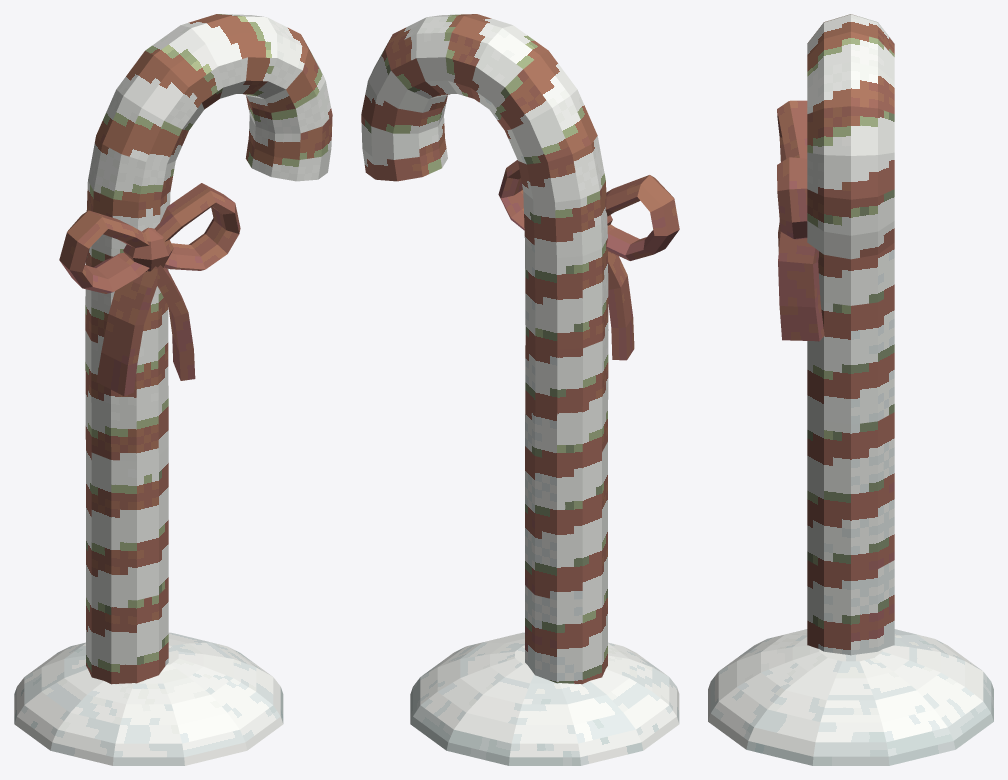
Rendered from candy_cane.glb.
3 renders of one model, left to right at view 1: azimuth 30°, elevation 25°; view 2: azimuth 150°, elevation 25°; view 3: azimuth 270°, elevation 25°, orthographic. The views are drawn at different scales.
Visible parts, largest first — view 1: static; view 2: static; view 3: static.
Boxes of the visible parts, <box> form: static: <box>14,14,332,765</box>; static: <box>361,14,679,765</box>; static: <box>708,14,993,765</box>.
Size of the model in its own units: 0.8528 by 1.87 by 0.675.
1 material, 1 textured.
